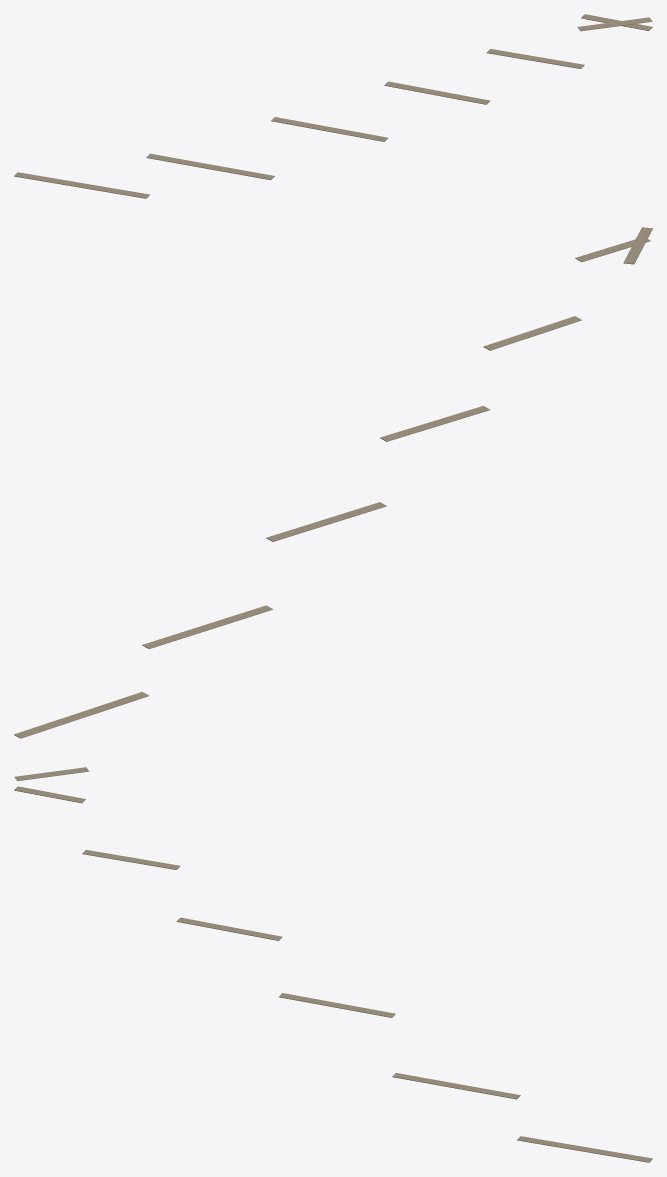
File: Castalla_Hill_Access_Reference_v3.glb
3 views of the same model, one above another, from view 1: azimuth 90°, elevation 25°; view 2: azimuth 150°, elevation 25°; view 3: azimuth 270°, elevation 25° (orthographic). The views are drawn at different scales.
Visible parts, largest first — view 1: world; view 2: world; view 3: world.
Boxes of the visible parts, bbox=[...] form: world: bbox=[14, 14, 652, 198]; world: bbox=[14, 227, 652, 738]; world: bbox=[14, 767, 652, 1162].
Size of the model in its own units: 79.45 by 78.42 by 169.
